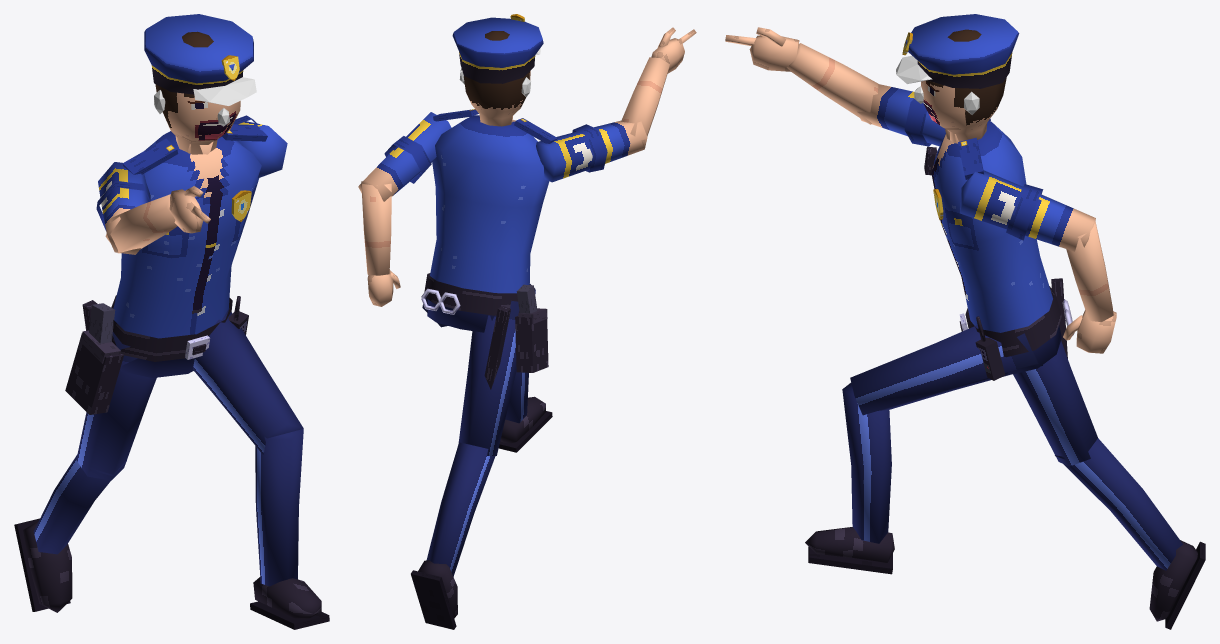
The model's file is Police Officer Run.fbx.
3 views of the same model, side by side, from view 1: azimuth 30°, elevation 25°; view 2: azimuth 150°, elevation 25°; view 3: azimuth 270°, elevation 25° (orthographic). The views are drawn at different scales.
Parts seen in each view (by area): view 1: Police Officer Run torso, Police Officer Run thigh L, Police Officer Run cap crown, Police Officer Run shin L.001, Police Officer Run thigh R, Police Officer Run shin R.001, Police Officer Run head.001, Police Officer Run holster.001, Police Officer Run shoe R, Police Officer Run forearm R.001, Police Officer Run upper arm R, Police Officer Run duty belt (+12 smaller); view 2: Police Officer Run torso, Police Officer Run thigh R, Police Officer Run cap crown, Police Officer Run shin R.001, Police Officer Run upper arm R, Police Officer Run upper arm L, Police Officer Run head.001, Police Officer Run forearm L.001, Police Officer Run forearm R.001, Police Officer Run duty belt, Police Officer Run holster.001, Police Officer Run sole R (+10 smaller); view 3: Police Officer Run torso, Police Officer Run thigh L, Police Officer Run cap crown, Police Officer Run shin L.001, Police Officer Run shin R.001, Police Officer Run thigh R, Police Officer Run upper arm L, Police Officer Run head.001, Police Officer Run forearm R.001, Police Officer Run forearm L.001, Police Officer Run upper arm R, Police Officer Run shoe L (+10 smaller).
Boxes of the visible parts, x1=… form: Police Officer Run torso: x1=113, y1=131, x2=261, y2=377; Police Officer Run thigh L: x1=193, y1=308, x2=303, y2=454; Police Officer Run cap crown: x1=144, y1=14, x2=253, y2=94; Police Officer Run shin L.001: x1=255, y1=429, x2=303, y2=586; Police Officer Run thigh R: x1=76, y1=332, x2=156, y2=480; Police Officer Run shin R.001: x1=33, y1=454, x2=126, y2=554; Police Officer Run head.001: x1=155, y1=31, x2=240, y2=154; Police Officer Run holster.001: x1=65, y1=333, x2=123, y2=414; Police Officer Run shoe R: x1=23, y1=521, x2=72, y2=612; Police Officer Run forearm R.001: x1=105, y1=194, x2=177, y2=253; Police Officer Run upper arm R: x1=98, y1=162, x2=150, y2=254; Police Officer Run duty belt: x1=111, y1=295, x2=232, y2=361; Police Officer Run torso: x1=427, y1=115, x2=549, y2=332; Police Officer Run thigh R: x1=458, y1=300, x2=519, y2=455; Police Officer Run cap crown: x1=452, y1=17, x2=543, y2=83; Police Officer Run shin R.001: x1=426, y1=442, x2=495, y2=576; Police Officer Run upper arm R: x1=536, y1=120, x2=647, y2=182; Police Officer Run upper arm L: x1=358, y1=112, x2=451, y2=201; Police Officer Run head.001: x1=463, y1=31, x2=530, y2=126; Police Officer Run forearm L.001: x1=361, y1=181, x2=391, y2=275; Police Officer Run forearm R.001: x1=621, y1=57, x2=669, y2=145; Police Officer Run duty belt: x1=424, y1=273, x2=519, y2=315; Police Officer Run holster.001: x1=515, y1=316, x2=548, y2=372; Police Officer Run sole R: x1=411, y1=570, x2=456, y2=629; Police Officer Run torso: x1=931, y1=121, x2=1061, y2=374; Police Officer Run thigh L: x1=850, y1=325, x2=1042, y2=415; Police Officer Run cap crown: x1=905, y1=14, x2=1019, y2=88; Police Officer Run shin L.001: x1=842, y1=382, x2=891, y2=543; Police Officer Run shin R.001: x1=1055, y1=438, x2=1182, y2=570; Police Officer Run thigh R: x1=1013, y1=340, x2=1097, y2=466; Police Officer Run upper arm L: x1=960, y1=170, x2=1095, y2=251; Police Officer Run head.001: x1=921, y1=29, x2=1006, y2=143; Police Officer Run forearm R.001: x1=787, y1=43, x2=878, y2=124; Police Officer Run forearm L.001: x1=1066, y1=217, x2=1113, y2=321; Police Officer Run upper arm R: x1=857, y1=84, x2=990, y2=146; Police Officer Run shoe L: x1=805, y1=527, x2=894, y2=562.
Size of the model in its own units: 0.6951 by 1.75 by 1.25.
18 materials, 16 textured.
